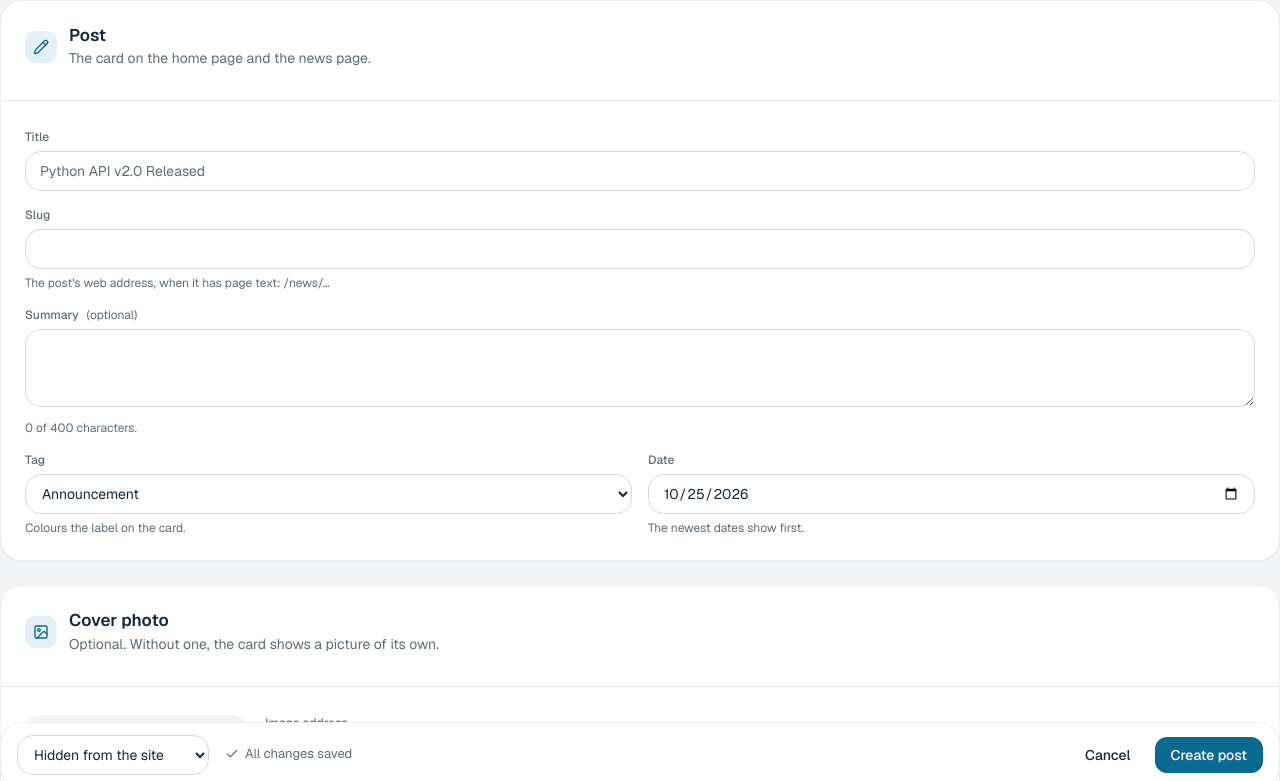
Test: the news editor › marks what is missing and sends nothing
Click the button "Create post". click: (1209, 755)
box: x1=1154 y1=737 x2=1263 y2=773
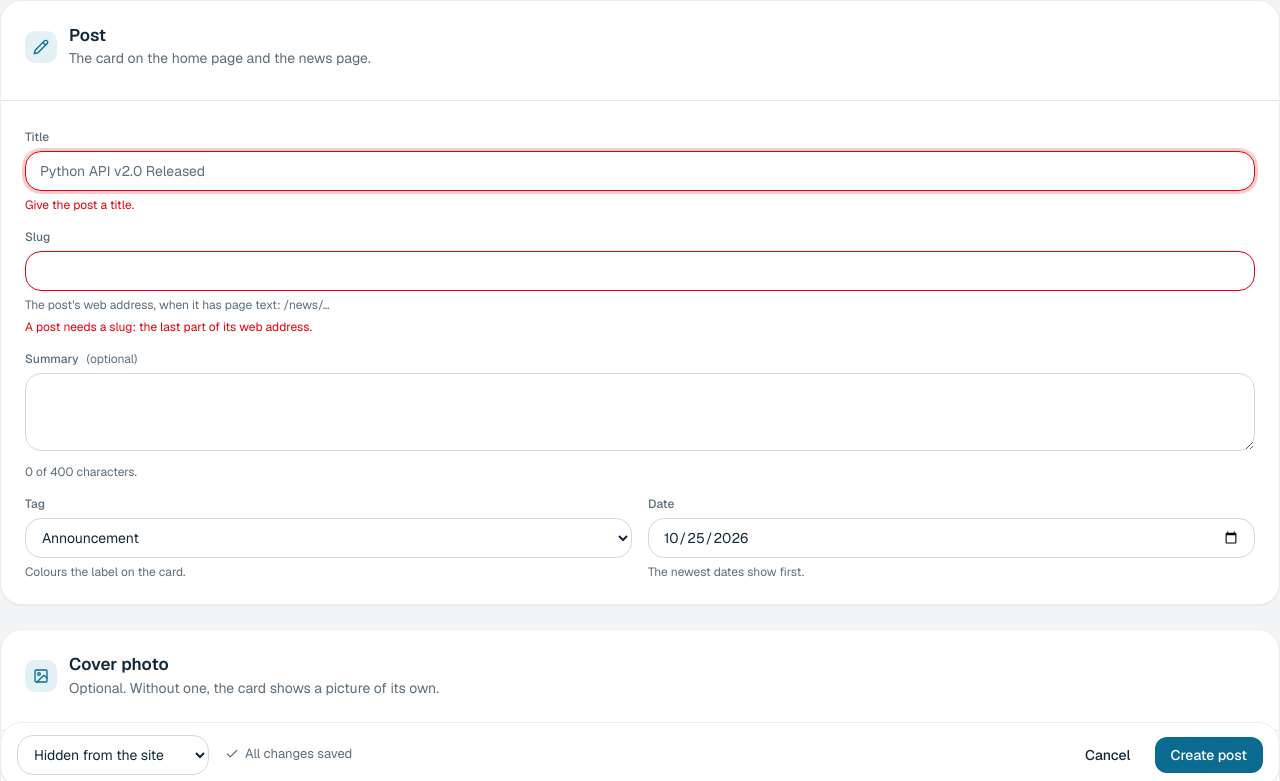
expect the text "Give the post a title." is shown: met, box x1=25 y1=197 x2=134 y2=213
